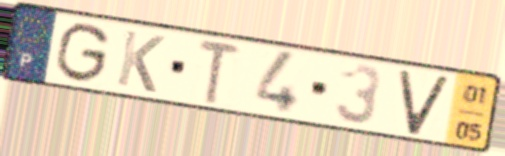3: (335, 63, 382, 128)
4: (251, 46, 303, 118)
G: (52, 21, 113, 86)
K: (113, 27, 168, 96)
T: (196, 36, 244, 107)
V: (396, 68, 453, 137)
